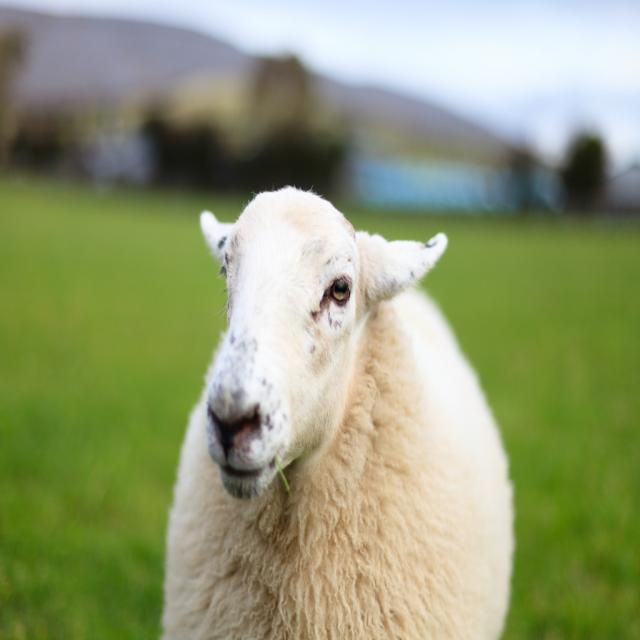Sheep: (160, 182, 516, 640)
